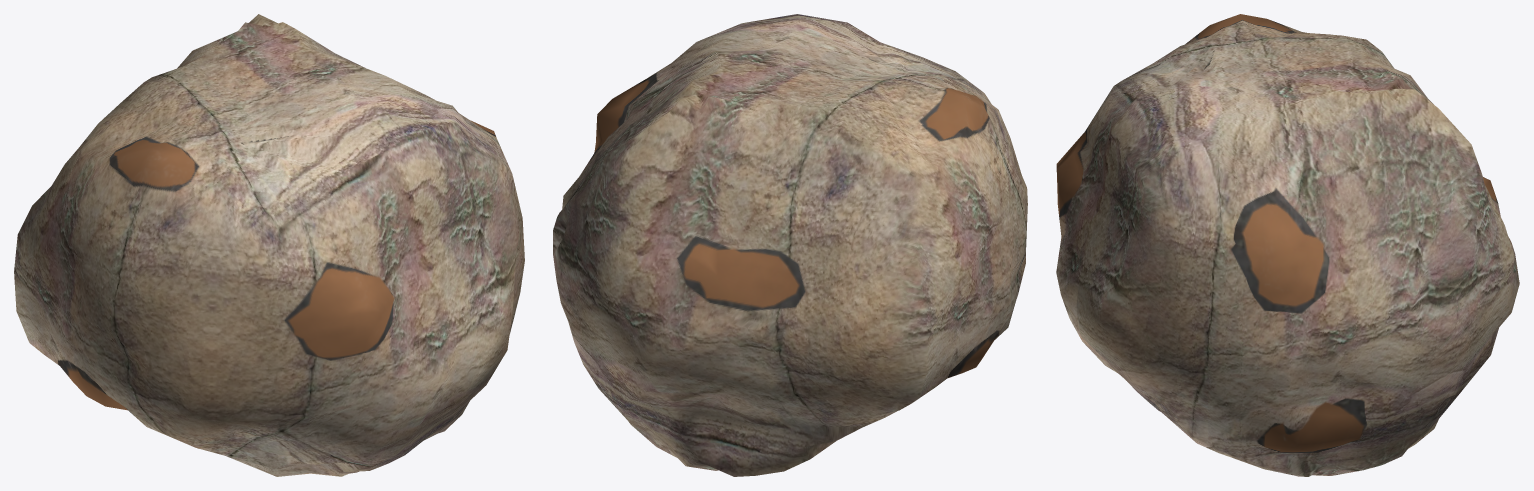
File: MetalRock.fbx
The picture shows the model from 3 angles, left to right: view 1: azimuth 30°, elevation 25°; view 2: azimuth 150°, elevation 25°; view 3: azimuth 270°, elevation 25°; orthographic projection. The views are drawn at different scales.
Visible parts, largest first — view 1: Volume5; view 2: Volume5; view 3: Volume5.
Part boxes in pixels (<box>): Volume5: <box>14,14,524,476</box>; Volume5: <box>553,14,1027,476</box>; Volume5: <box>1056,14,1519,476</box>.
Bounding box in the file's own units: 74.45 × 66.63 × 75.52.
